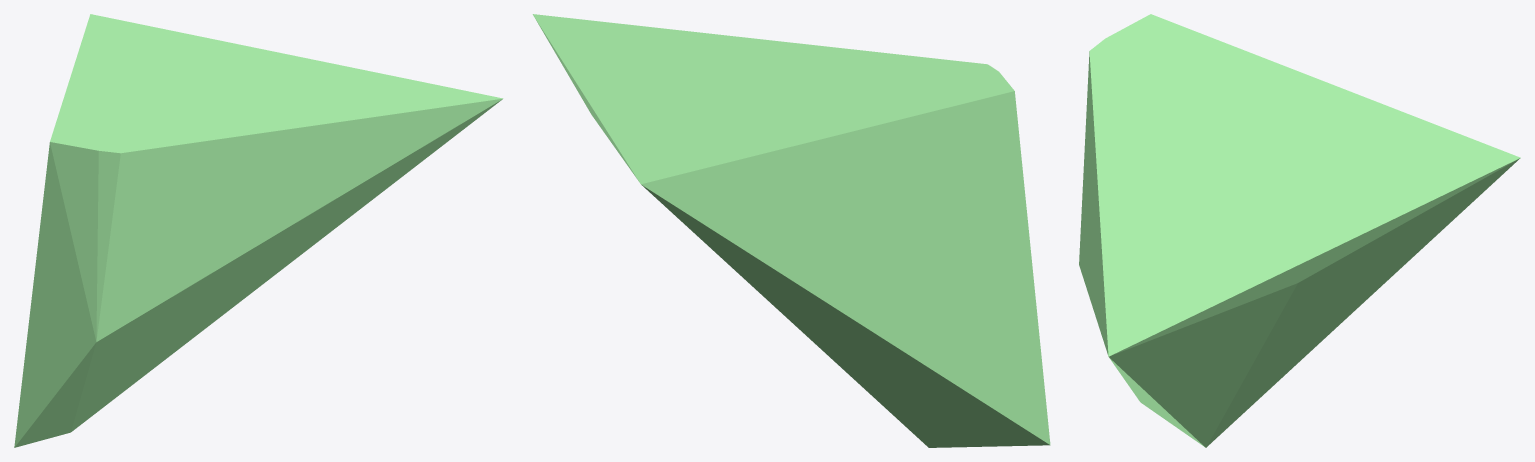
Rendered from UMIRobot_UMIRobot_link_4_convex_coll_23.dae.
3 renders of one model, left to right at view 1: azimuth 30°, elevation 25°; view 2: azimuth 150°, elevation 25°; view 3: azimuth 270°, elevation 25°, orthographic. The views are drawn at different scales.
Parts seen in each view (by area): view 1: node; view 2: node; view 3: node.
Part boxes in pixels (x1,y1,x2,y2): node: [14, 14, 503, 447]; node: [532, 14, 1050, 447]; node: [1079, 14, 1520, 447].
Bounding box in the file's own units: 0.0408 × 0.0256 × 0.0256.
